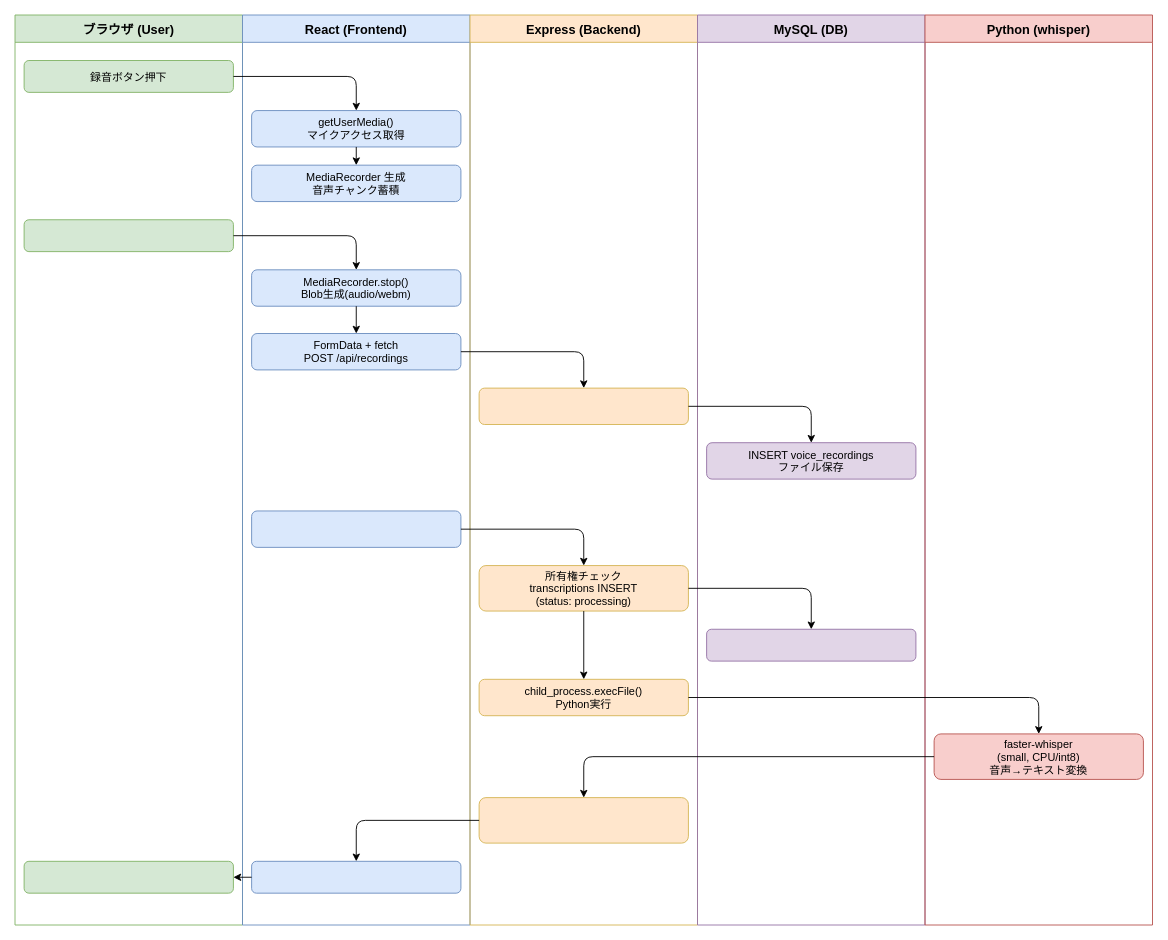
This 1168x940 diagram has some shape labels left out. The centre of each missing label's shape, as x and y in pixels:
"INSERT transcriptions" goes at point 811,644.
"multer ファイル受信 (50MB上限)" goes at point 583,406.
"POST /api/transcribe {recording_id}" goes at point 356,528.
"UPDATE transcriptions status: completed raw_text/language保存" goes at point 583,820.
"停止ボタン押下" goes at point 128,235.
"文字起こし結果を表示" goes at point 356,876.
"結果テキスト確認" goes at point 128,876.
